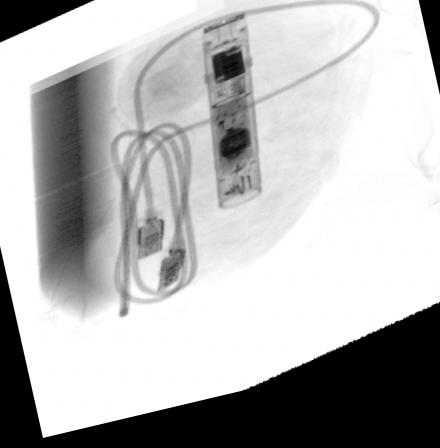Baton: (200, 20, 264, 221)
